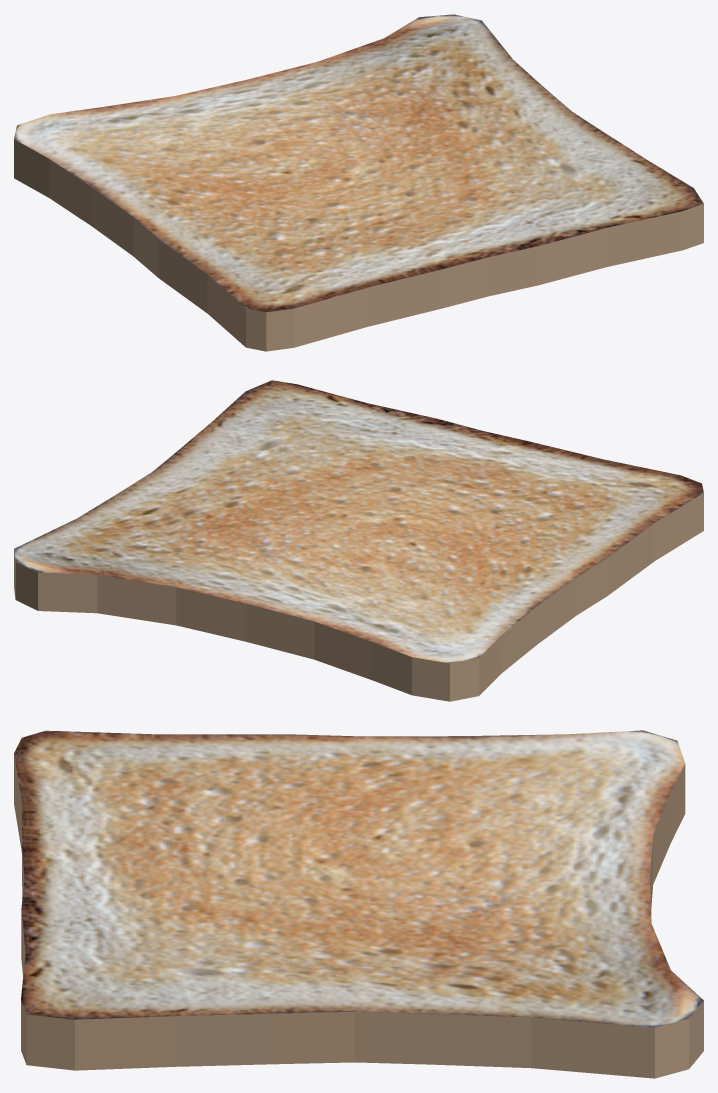
The model's file is sweethome3d-contributions-toast-321.glb.
3 renders of one model, top to bottom at view 1: azimuth 30°, elevation 25°; view 2: azimuth 150°, elevation 25°; view 3: azimuth 270°, elevation 25°, orthographic. The views are drawn at different scales.
Visible parts, largest first — view 1: Cylinder_4, Cylinder_4_1; view 2: Cylinder_4, Cylinder_4_1; view 3: Cylinder_4, Cylinder_4_1.
Part boxes in pixels (bbox=[...]): Cylinder_4: bbox=[14, 14, 703, 312]; Cylinder_4_1: bbox=[14, 139, 703, 351]; Cylinder_4: bbox=[14, 380, 703, 663]; Cylinder_4_1: bbox=[14, 493, 703, 701]; Cylinder_4: bbox=[14, 730, 703, 1027]; Cylinder_4_1: bbox=[14, 754, 703, 1078].
Size of the model in its own units: 10.07 by 0.8 by 9.87.
2 materials, 1 textured.
